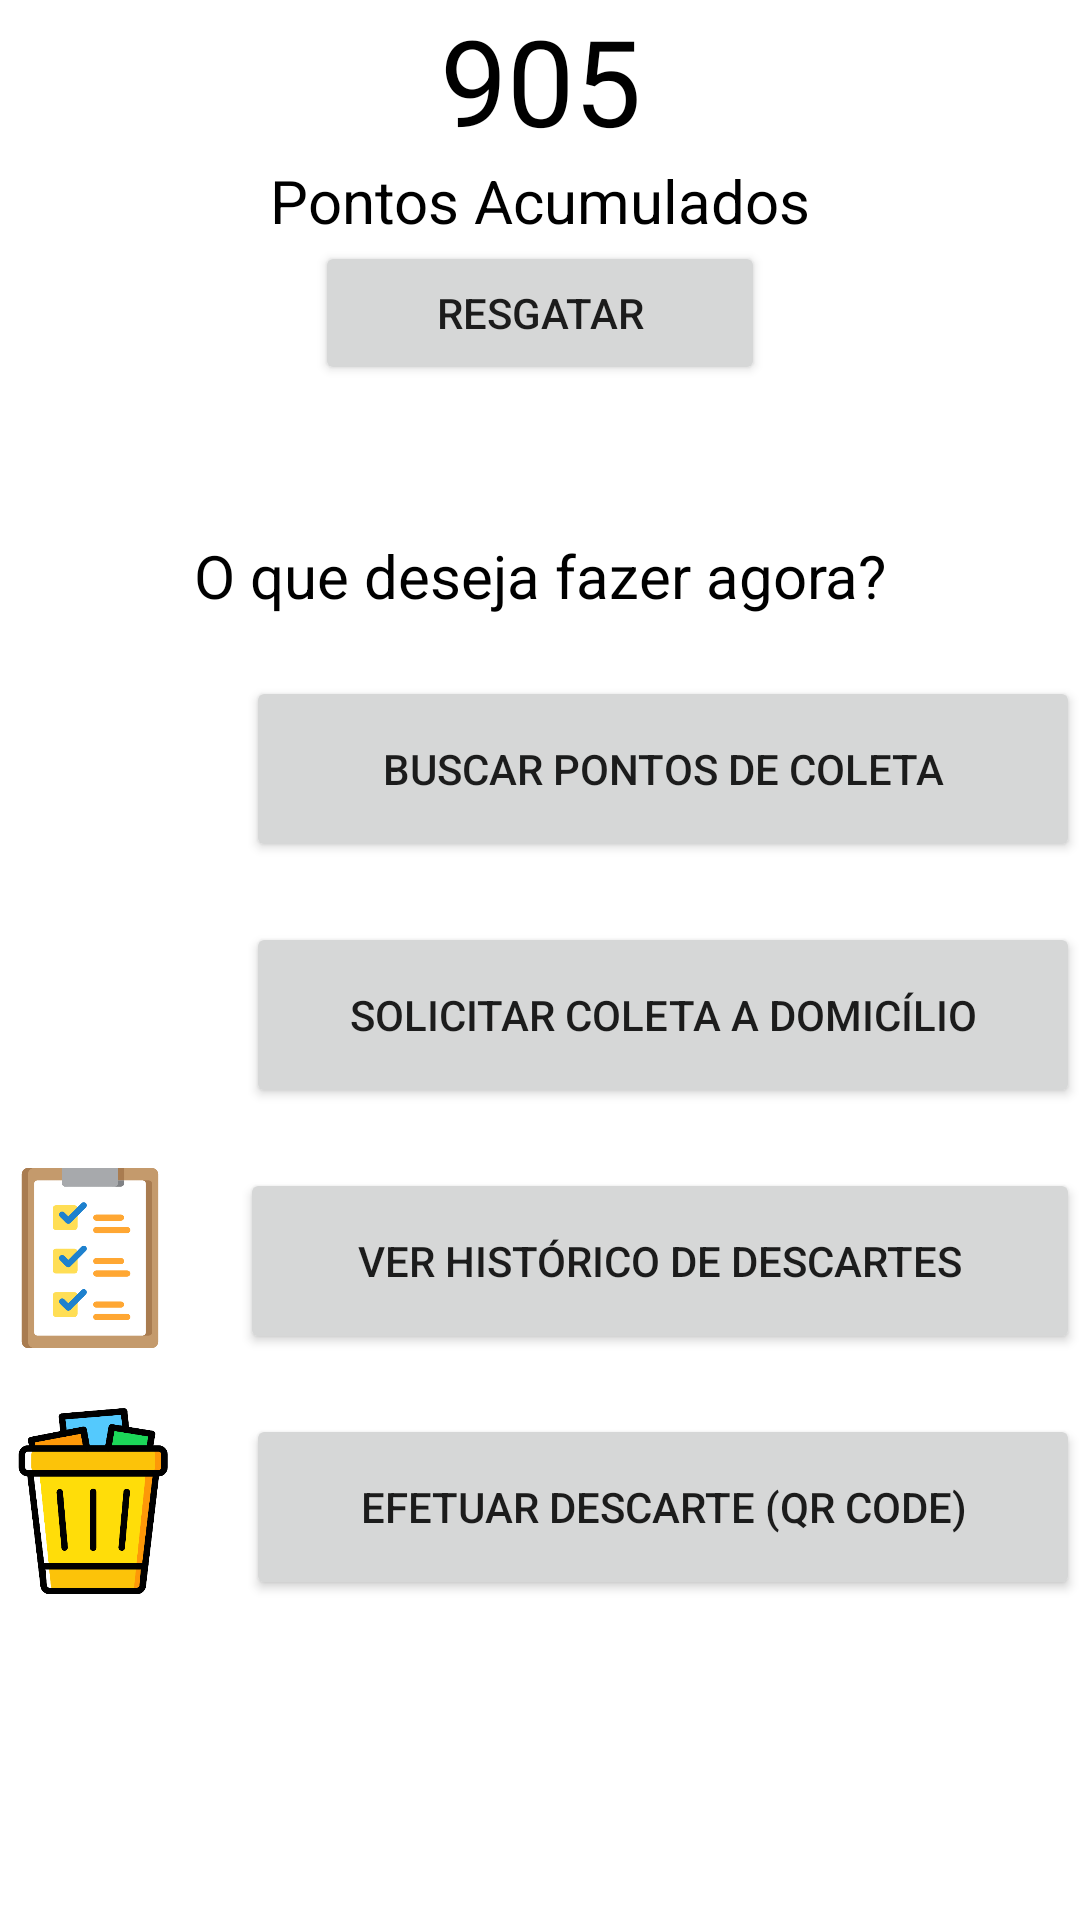

Point at icon controls on the screen. Image size 1080×1920, points as (x=x, y=y).
listicon: (x=89, y=1258)
trashicon: (x=93, y=1501)
